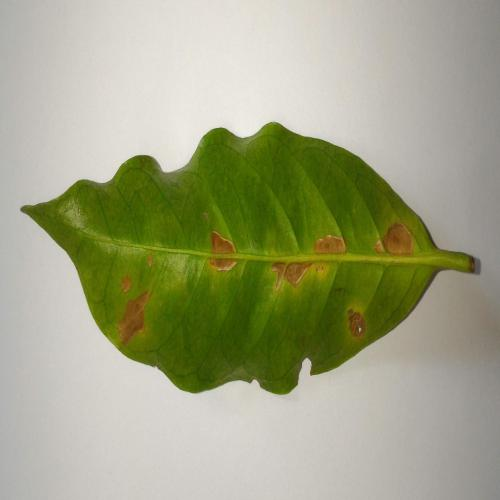leaf: (374, 221, 413, 257)
